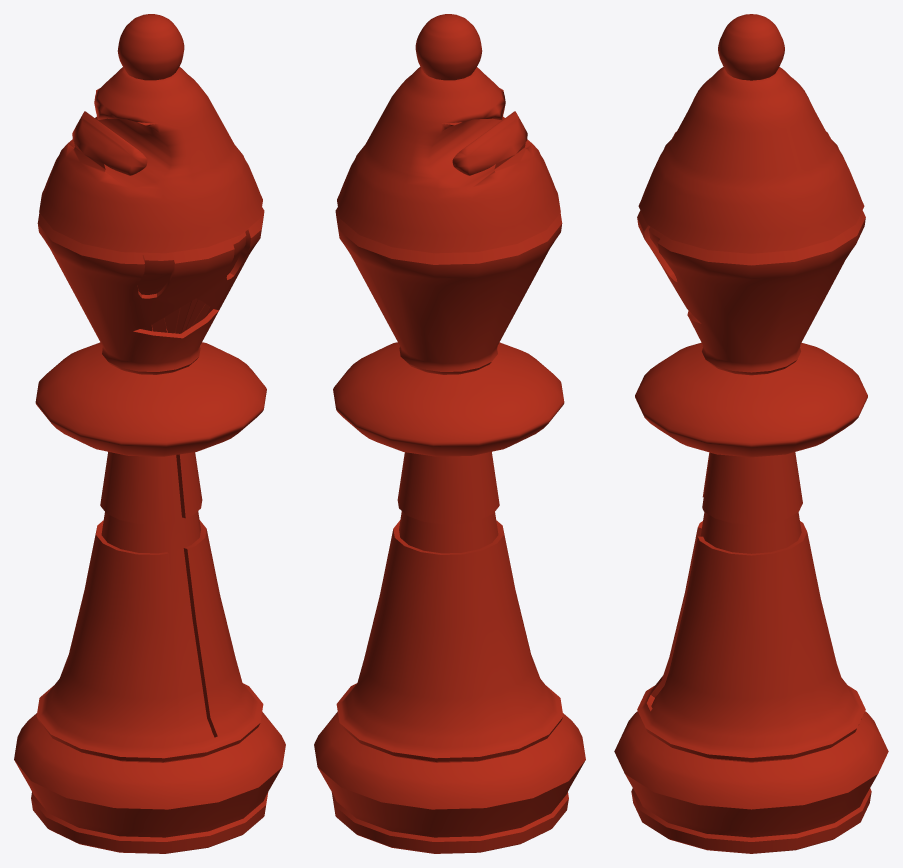
The model's file is Alfil_Celestial_high.FBX.
The picture shows the model from 3 angles, left to right: view 1: azimuth 30°, elevation 25°; view 2: azimuth 150°, elevation 25°; view 3: azimuth 270°, elevation 25°; orthographic projection.
Visible parts, largest first — view 1: Object001; view 2: Object001; view 3: Object001.
Boxes of the visible parts, x1,y1,x2,y2 form: Object001: (14,14,285,853); Object001: (314,14,585,853); Object001: (614,14,888,853).
Size of the model in its own units: 203 by 645 by 203.
